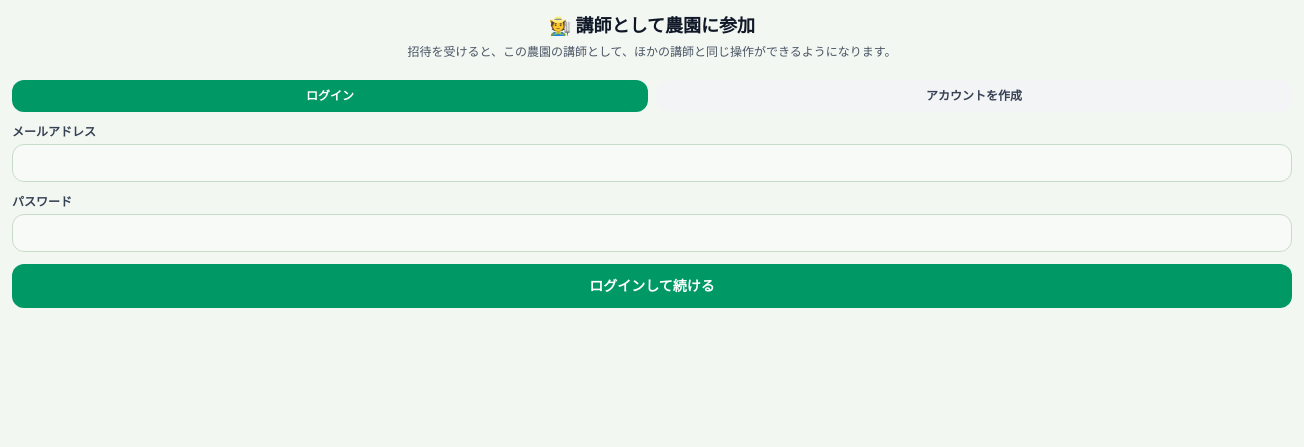
Test: TeacherInviteAccept - 講師の招待を受ける › アカウントを作成すると表示名を渡し、メール確認が必要なら案内を表示する
Click the tab "アカウントを作成": coordinates (974, 96) top-left (656, 80), bottom-right (1292, 112)
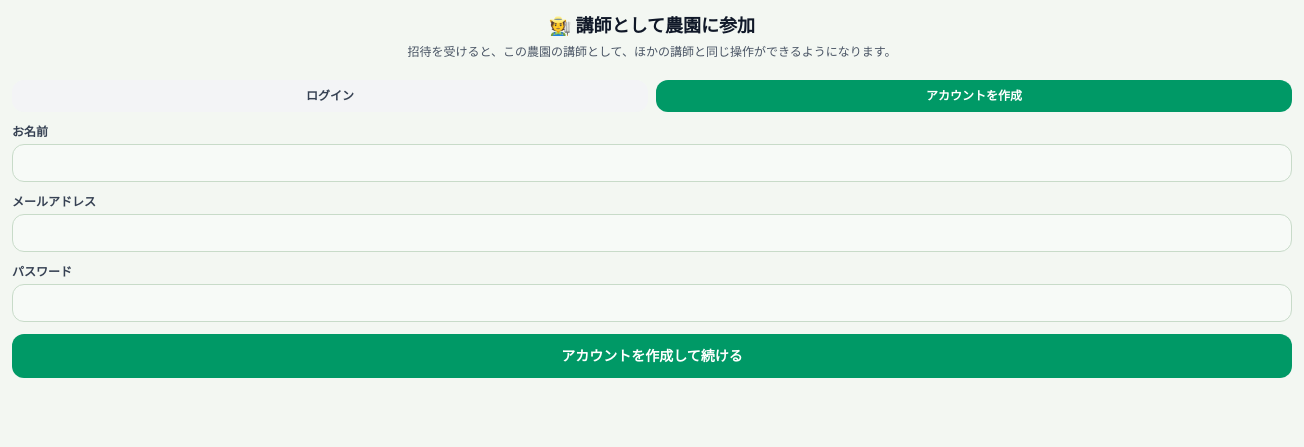
In the field labelled "お名前": coordinates (652, 163) top-left (12, 144), bottom-right (1292, 182), type "運営 太郎"
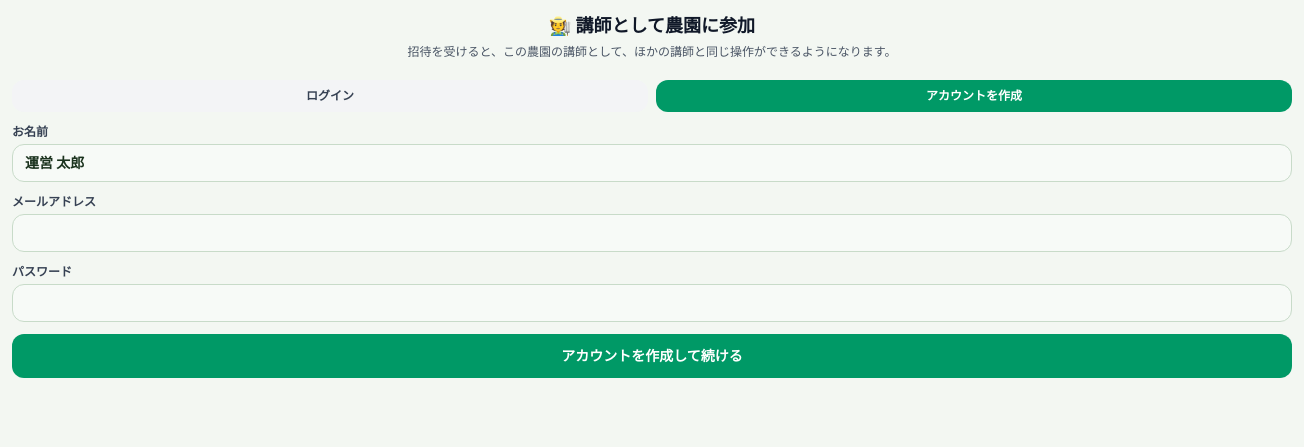
In the field labelled "メールアドレス": coordinates (652, 233) top-left (12, 214), bottom-right (1292, 252), type "new@example.com"
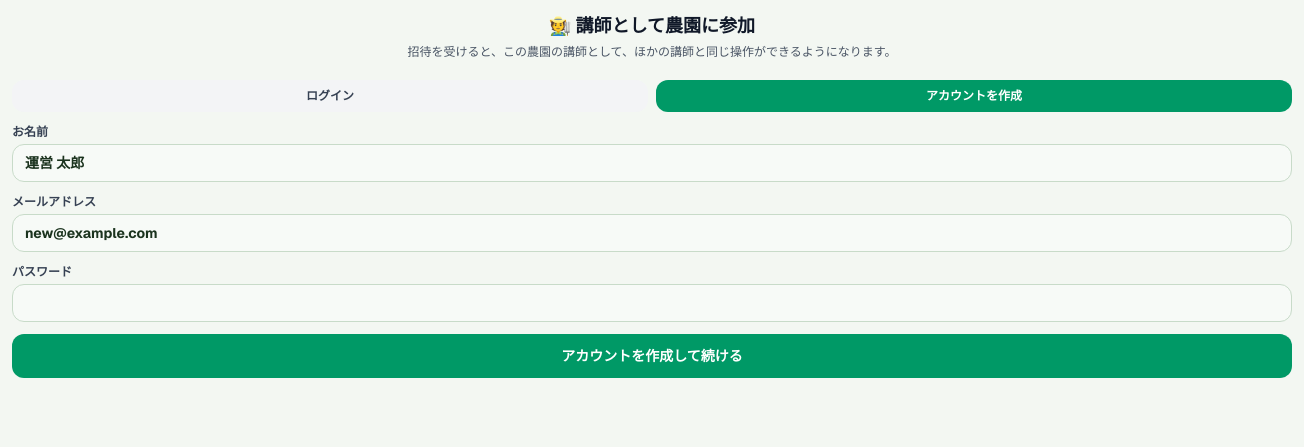
In the password field labelled "パスワード": coordinates (652, 303) top-left (12, 284), bottom-right (1292, 322), type "secret1"
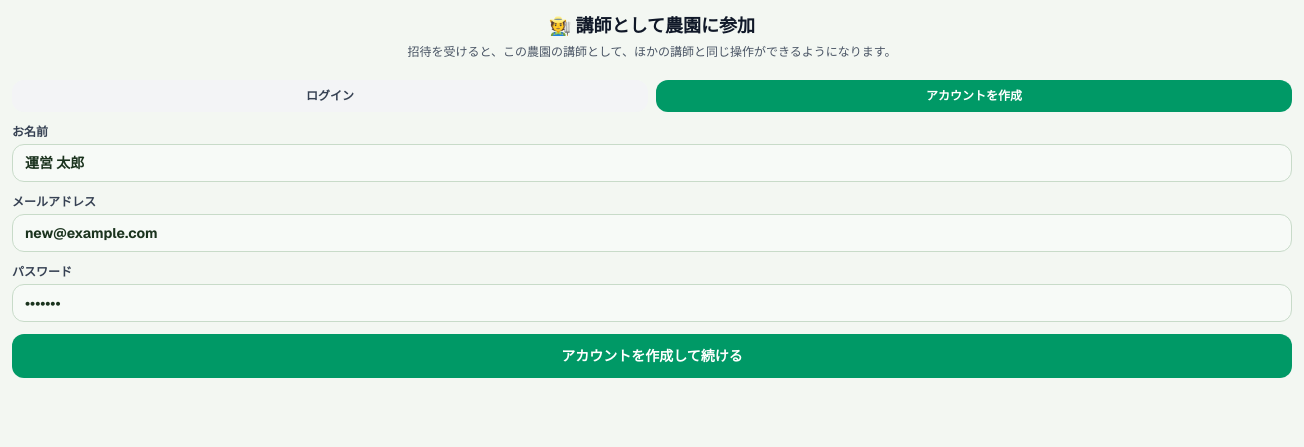
Click the button "アカウントを作成して続ける": coordinates (652, 356) top-left (12, 334), bottom-right (1292, 378)
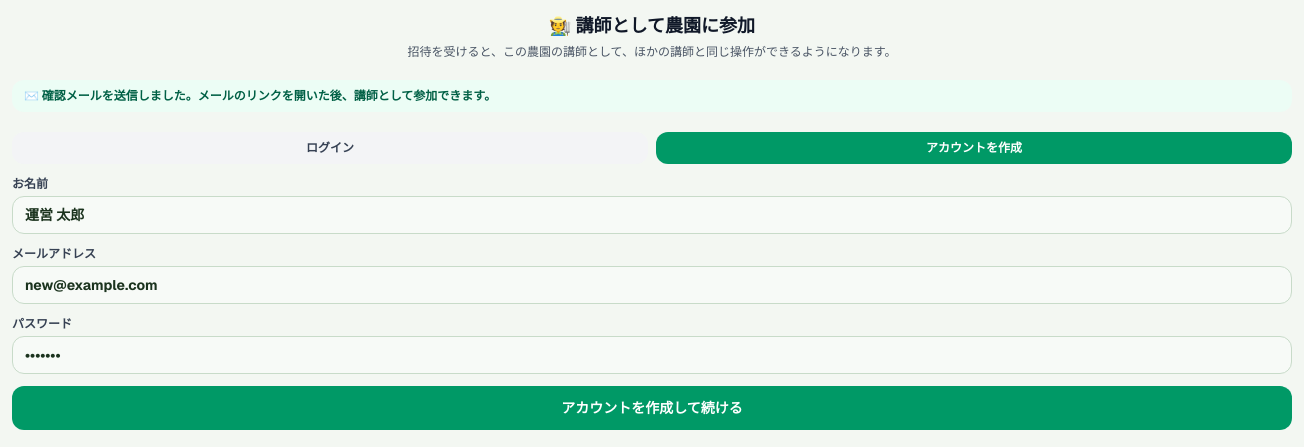
Now the message "✉️ 確認メールを送信しました。メールのリンクを開いた後、講師として参加できます。" is shown, box top-left (12, 80), bottom-right (1292, 112)
